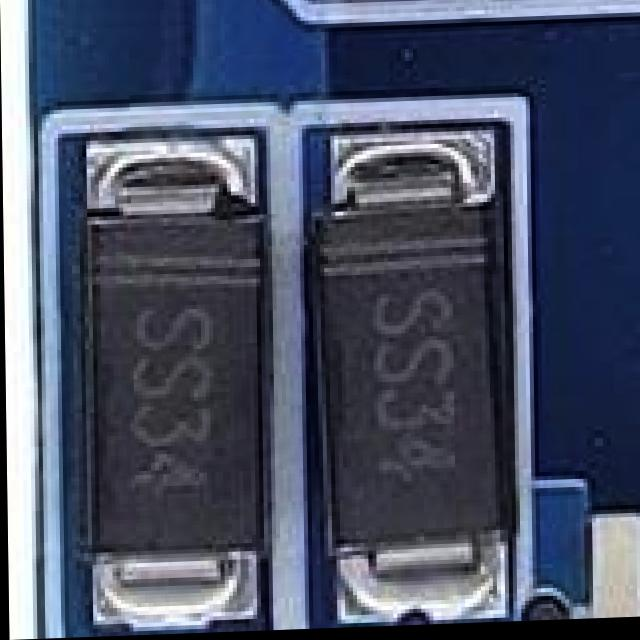capacitor: (220, 0, 640, 6)
connector: (585, 441, 640, 623)
diode: (314, 161, 519, 631), (70, 172, 271, 638)
